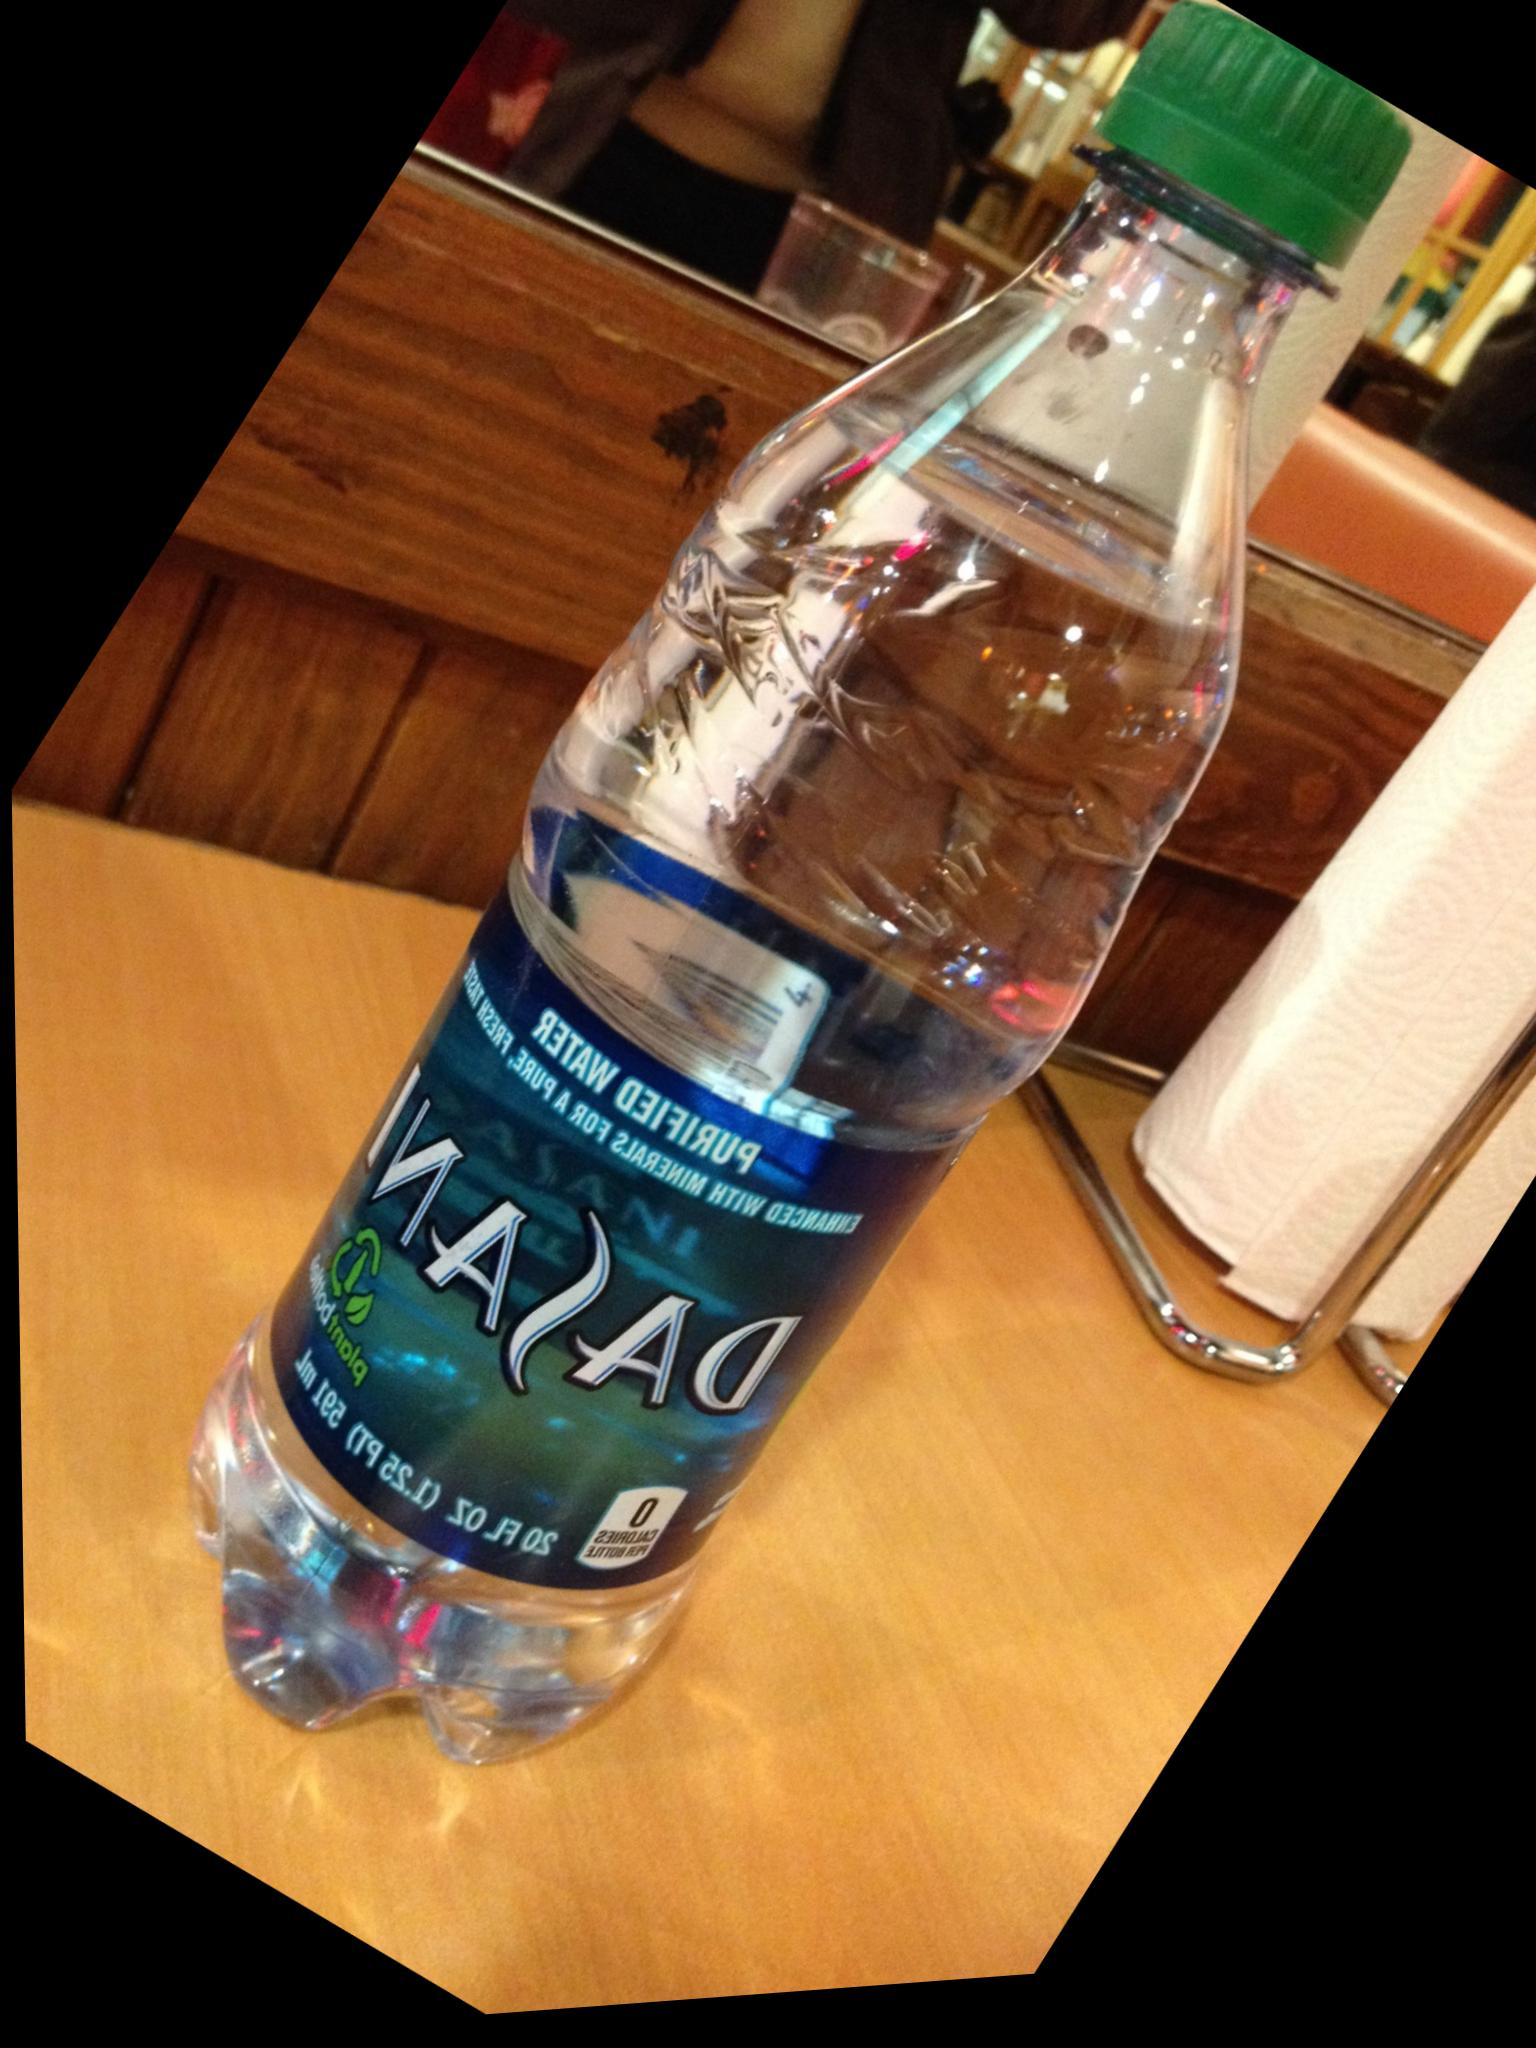plastic: (0, 0, 1526, 1843)
